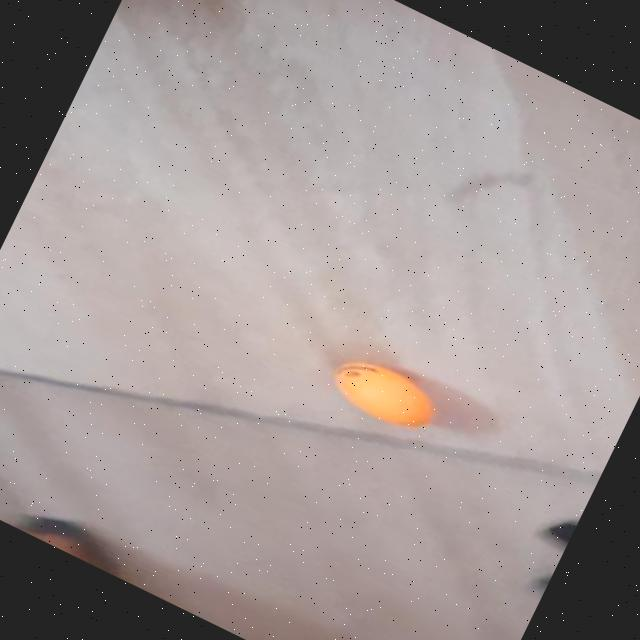ping-pong-ball: (320, 348, 439, 438)
